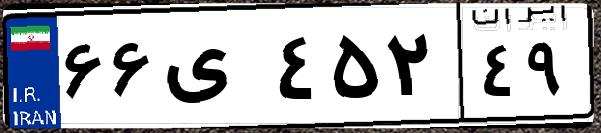2: (385, 28, 445, 110)
4: (270, 28, 330, 110), (475, 38, 525, 113)
5: (330, 28, 385, 110)
6: (57, 26, 110, 100), (110, 28, 158, 98)
9: (525, 38, 570, 115)
ی: (158, 20, 270, 120)
